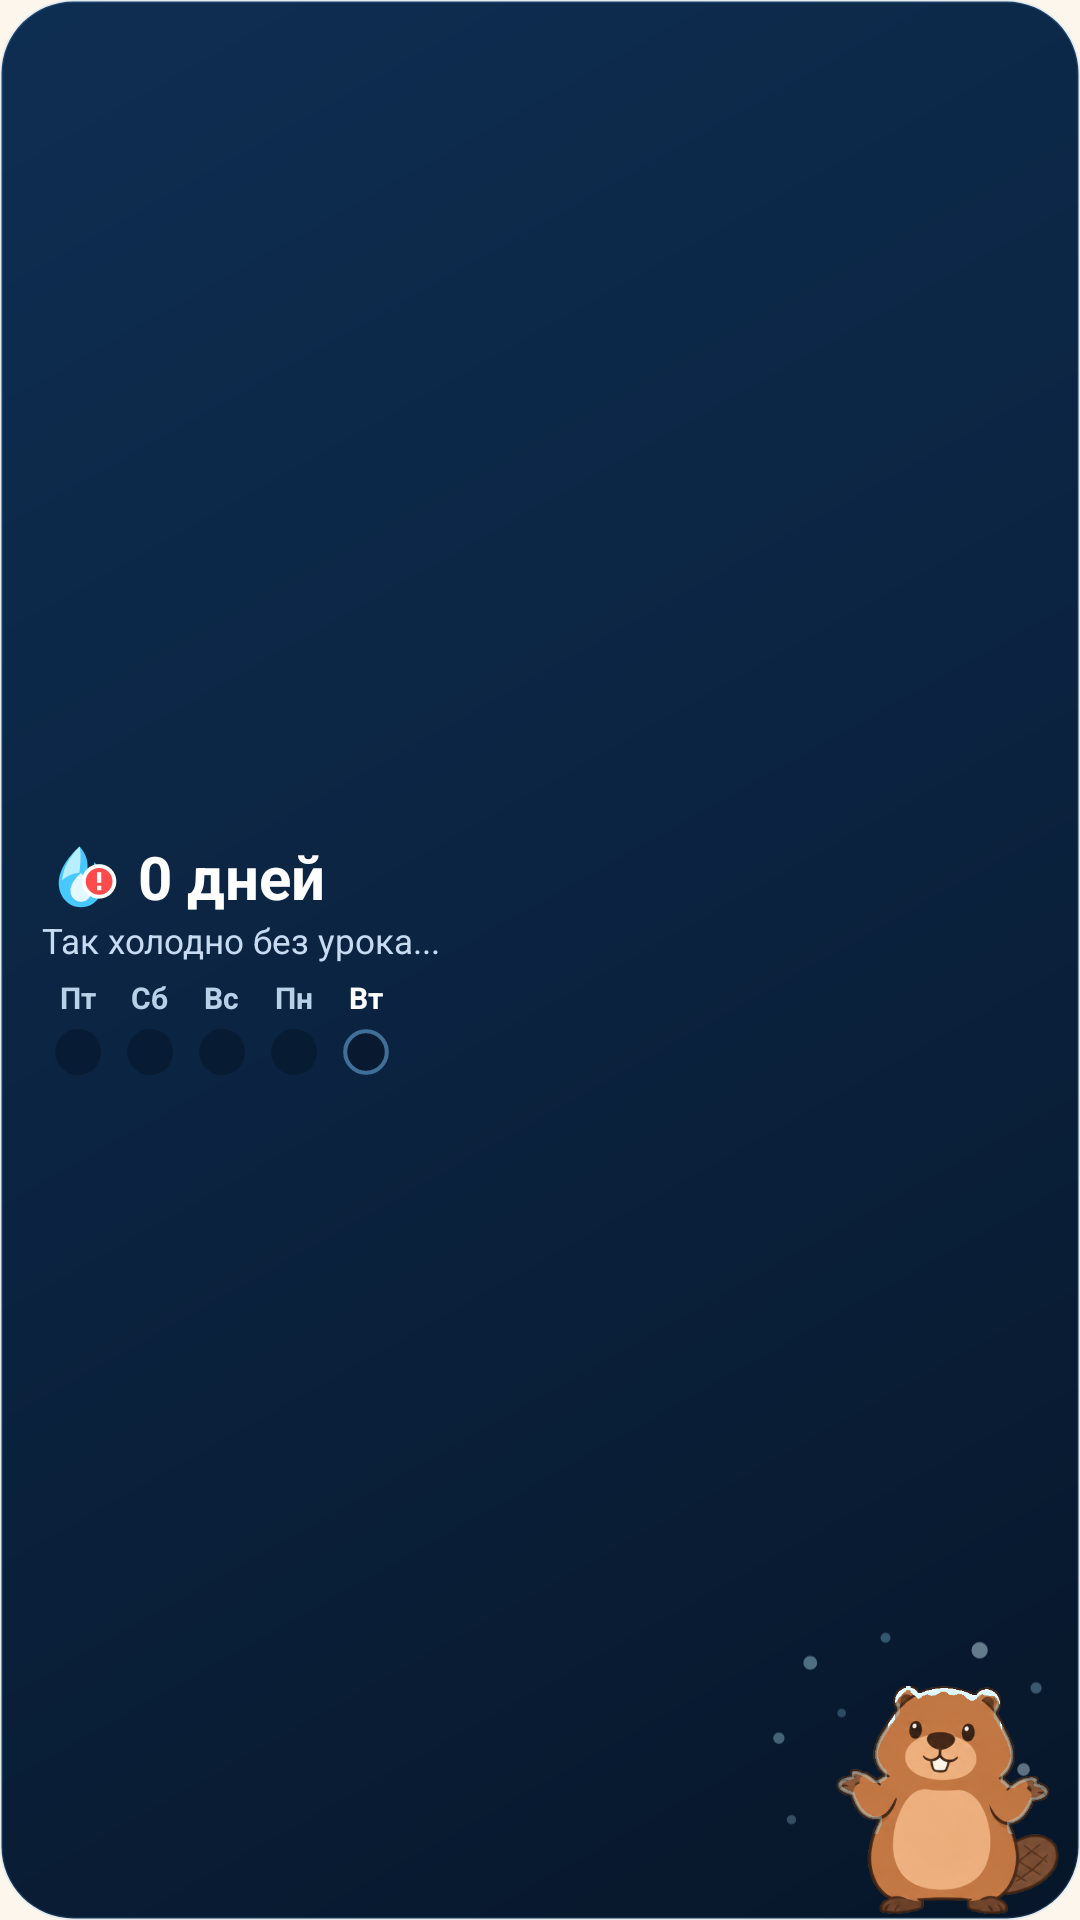

Icon click points for this 1080x1920 phone screenshot, format (x=x, y=y):
widget flame cold: (x=87, y=877)
Маскот бобёр Bebringo: (x=948, y=1800)
